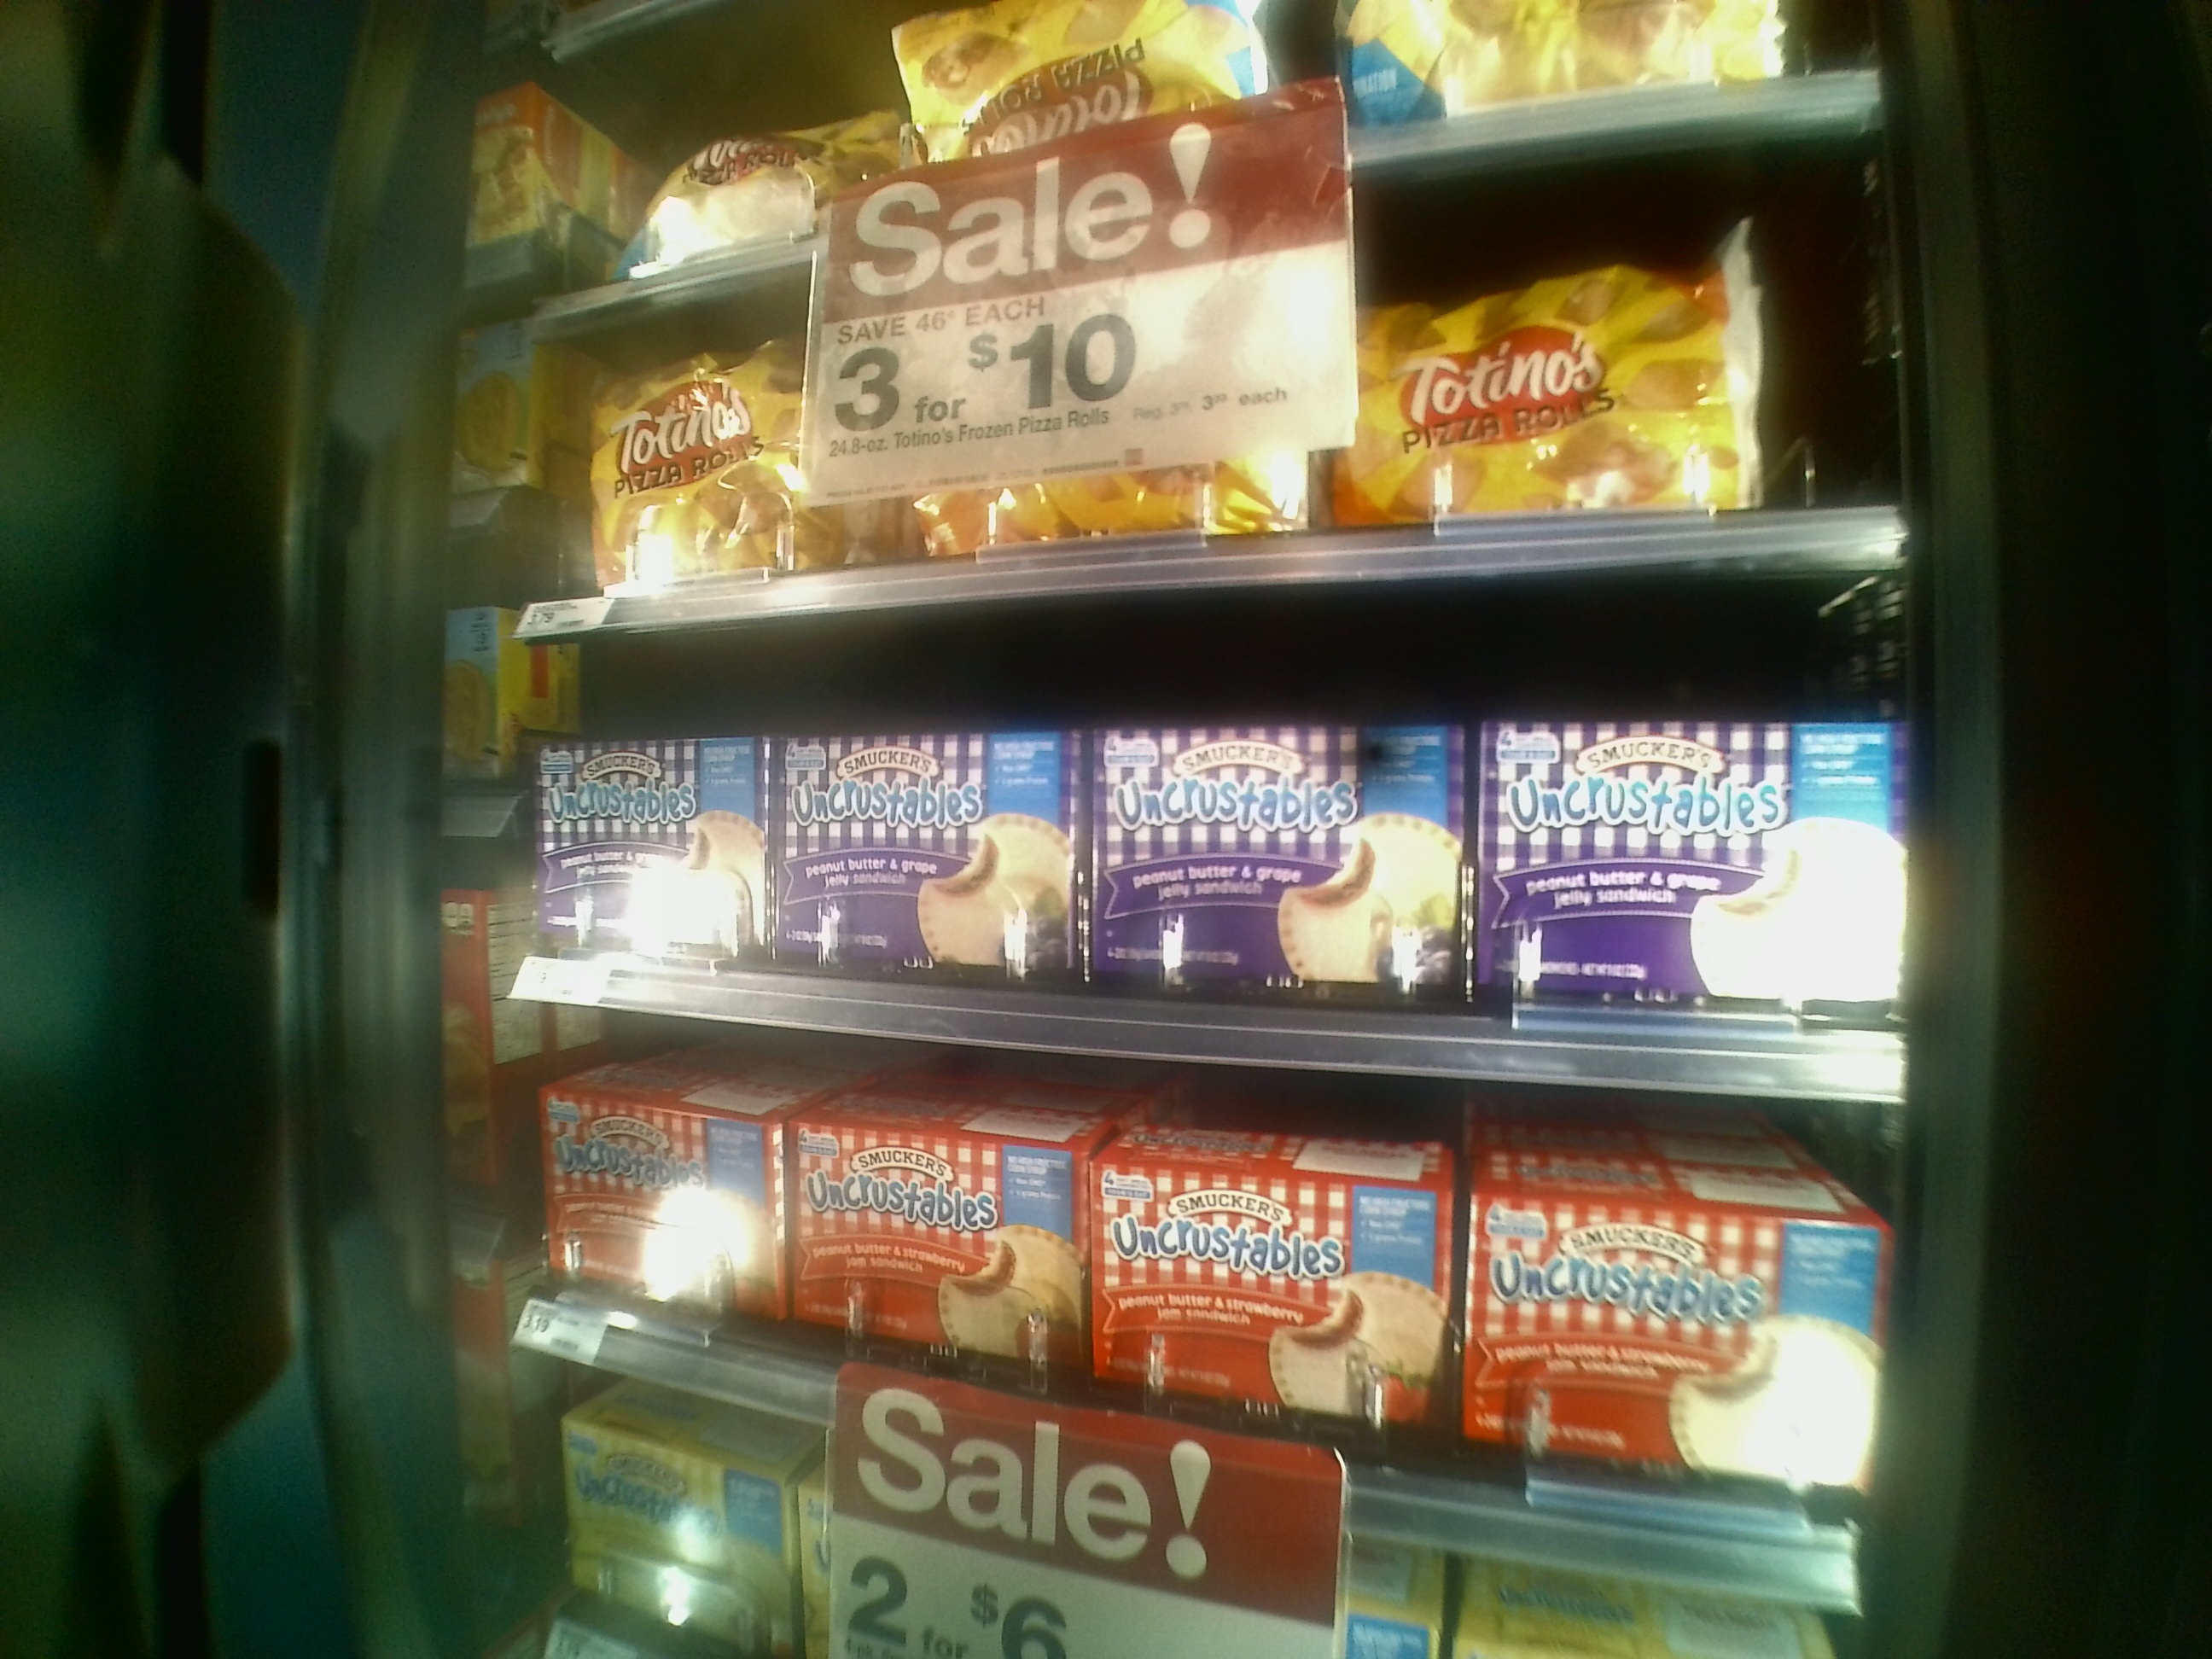shelf: (519, 1030, 1895, 1577), (526, 615, 1905, 1101), (517, 321, 1892, 605)
